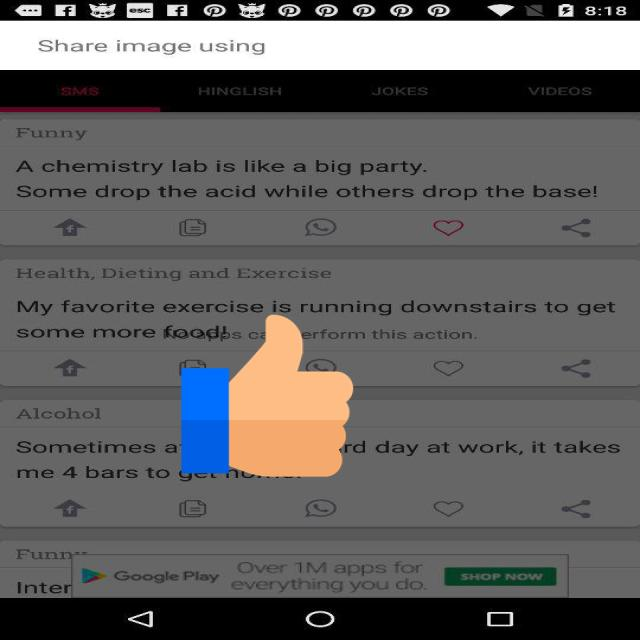privacy zuckering: (182, 310, 354, 480)
